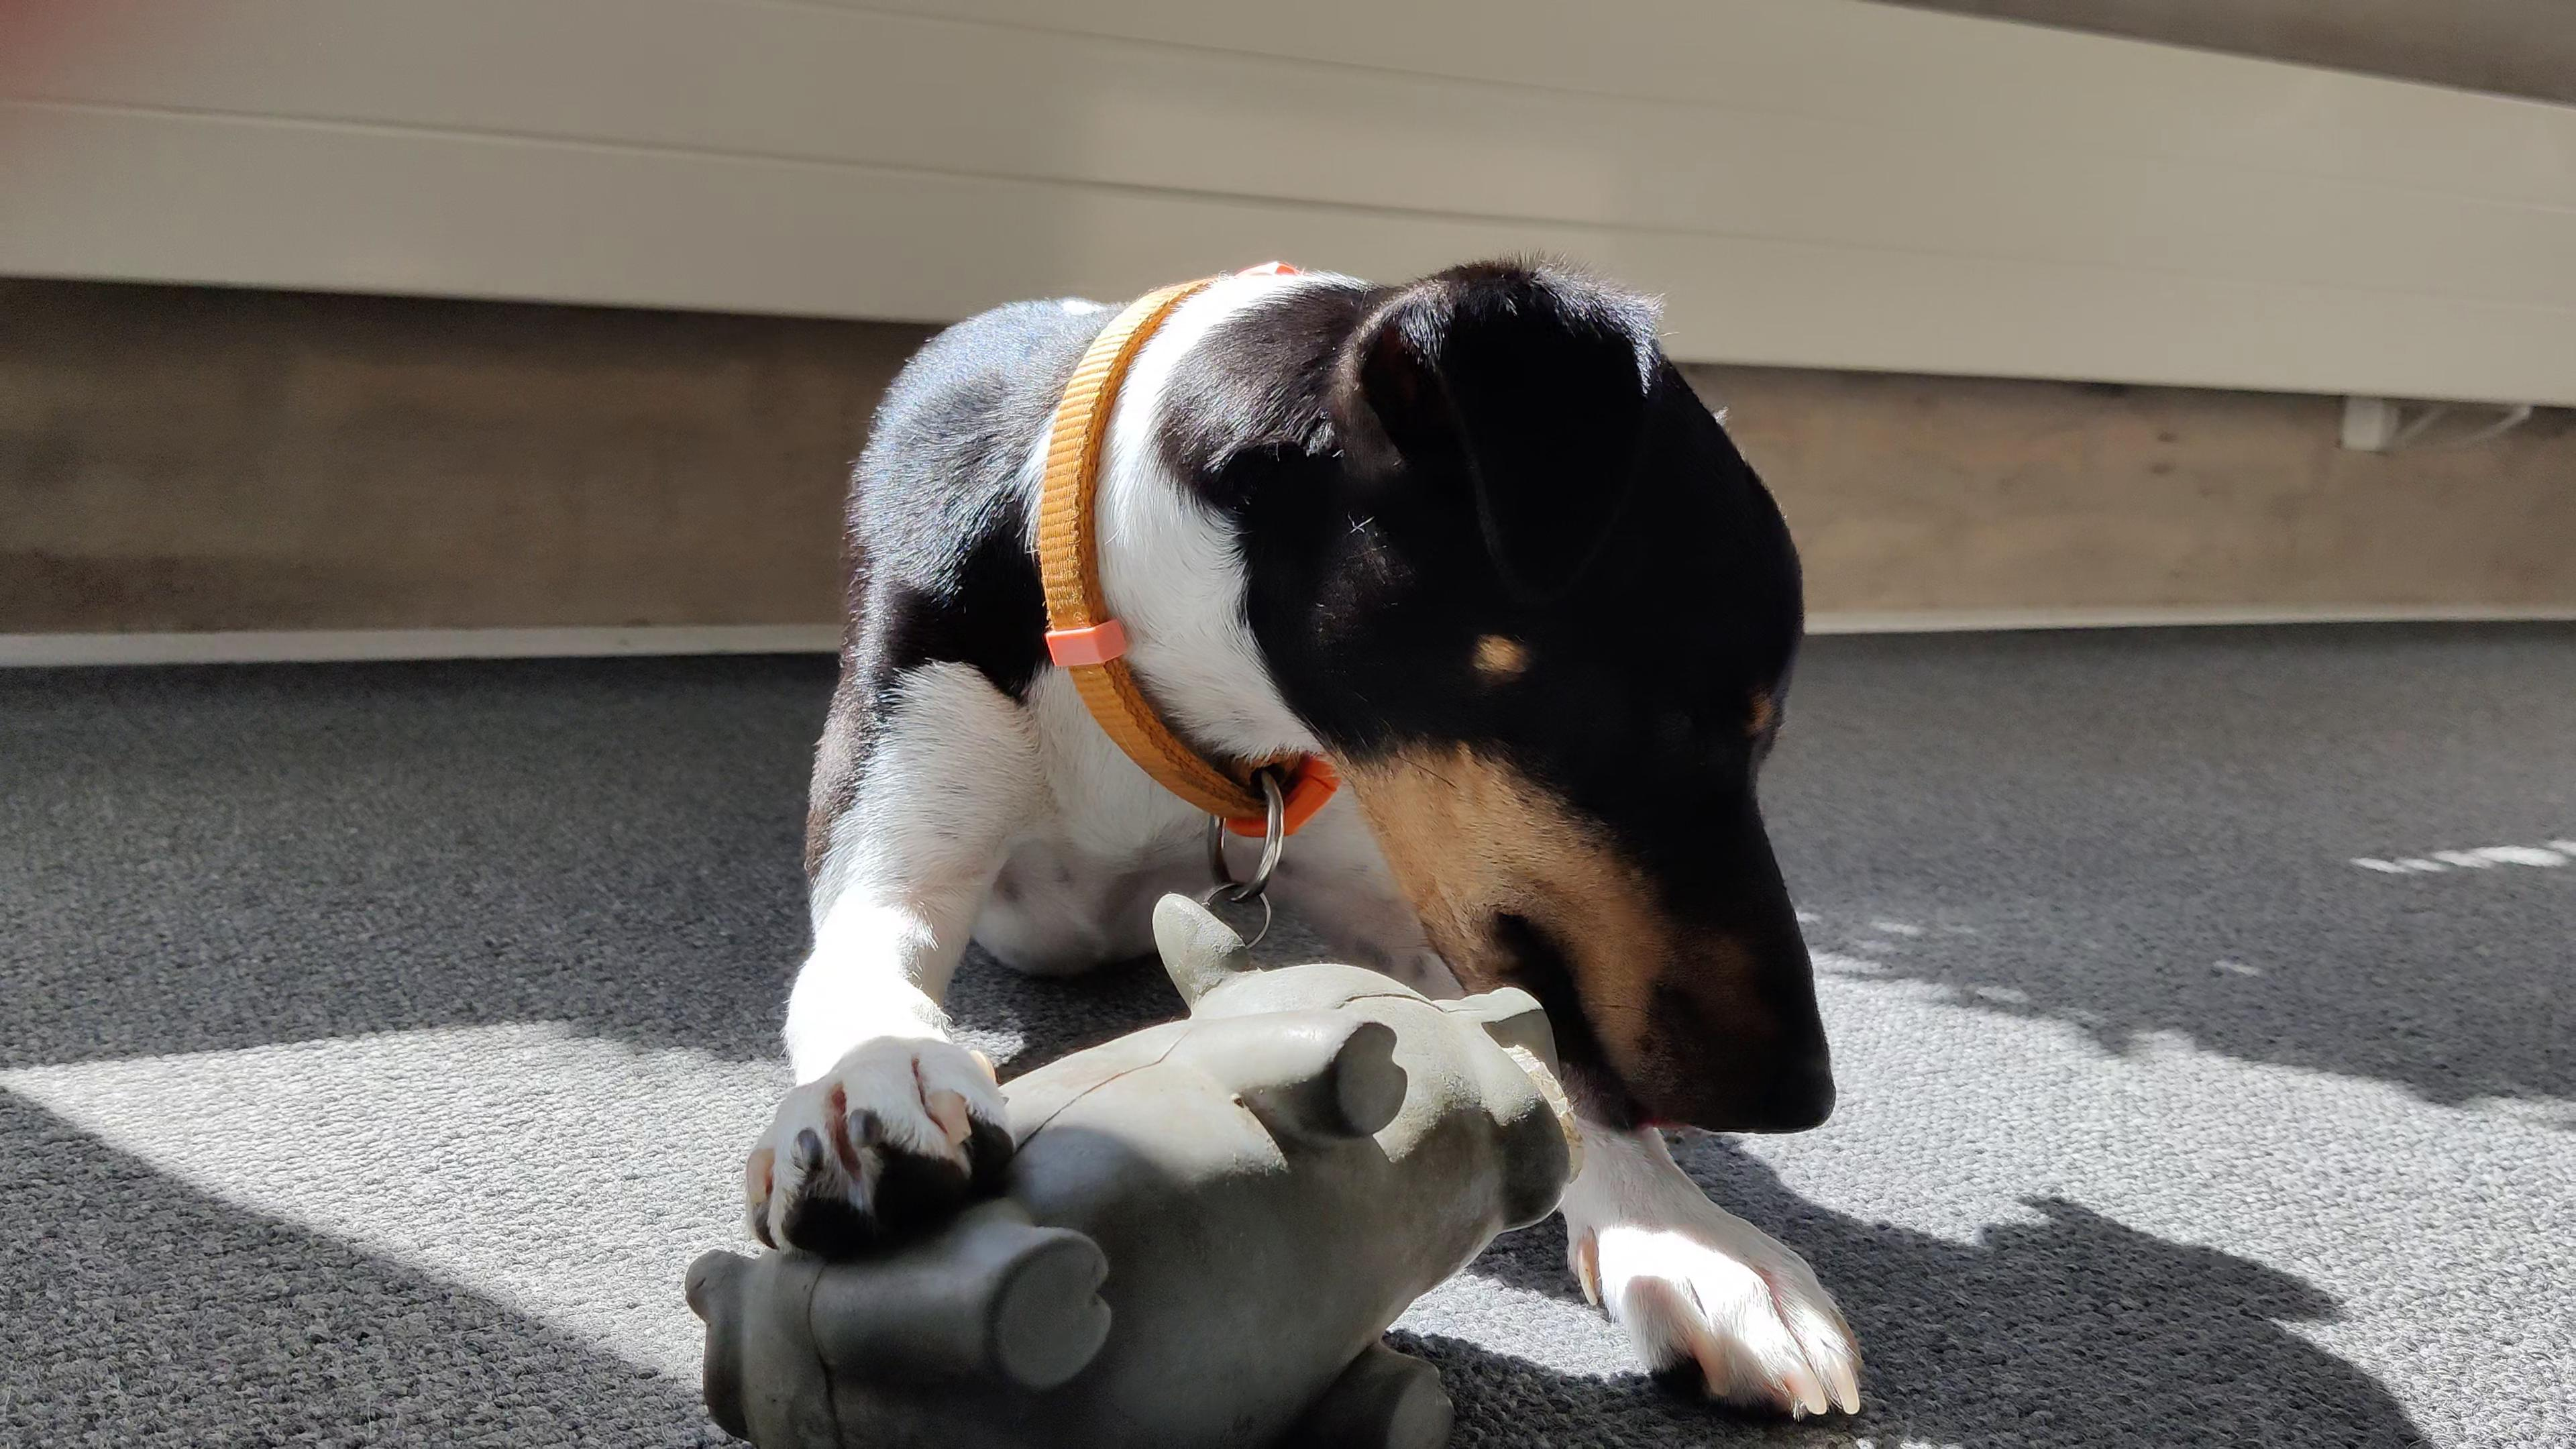Dog: (722, 189, 1886, 1428)
